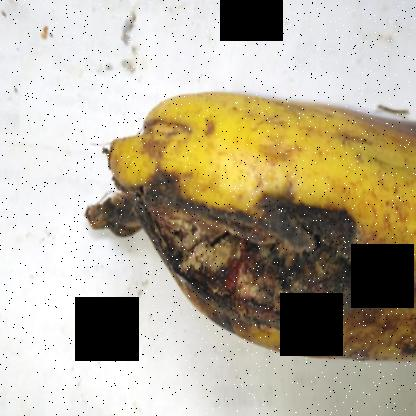ripe: (113, 79, 415, 383)
rotten: (102, 190, 392, 353), (315, 93, 415, 183)
